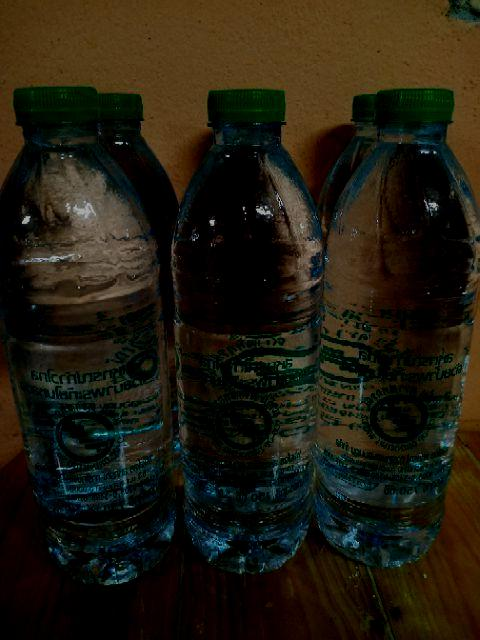bottle: (0, 73, 179, 597), (306, 78, 476, 576), (163, 74, 328, 578), (44, 85, 186, 528), (306, 83, 431, 575)
